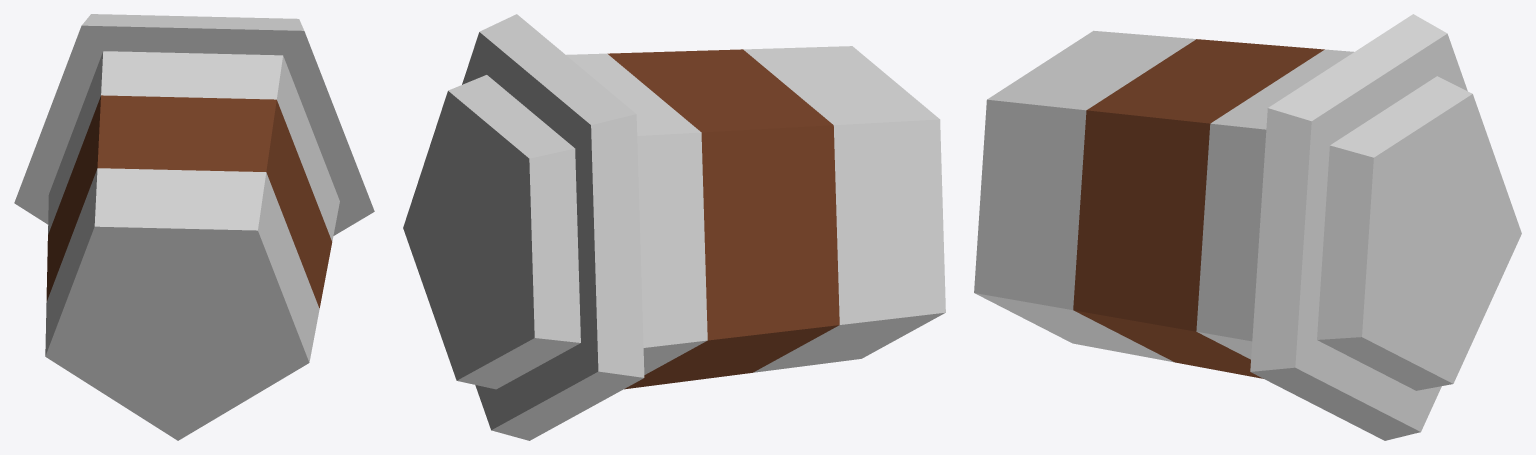
The model's file is Kahve.fbx.
3 views of the same model, side by side, from view 1: azimuth 30°, elevation 25°; view 2: azimuth 150°, elevation 25°; view 3: azimuth 270°, elevation 25° (orthographic). The views are drawn at different scales.
Parts seen in each view (by area): view 1: Circle; view 2: Circle; view 3: Circle.
Part boxes in pixels (x1,y1,x2,y2): Circle: (14,14,374,440); Circle: (403,14,945,440); Circle: (974,14,1521,440).
Size of the model in its own units: 83.41 by 64.4 by 86.97.
